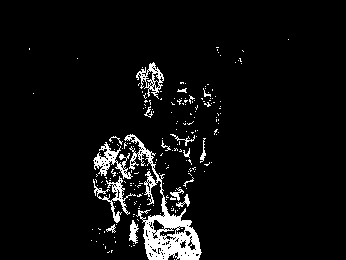person: (86, 137, 123, 238), (157, 130, 197, 223), (122, 134, 149, 241), (201, 81, 220, 169), (139, 59, 165, 123), (177, 78, 193, 134)
